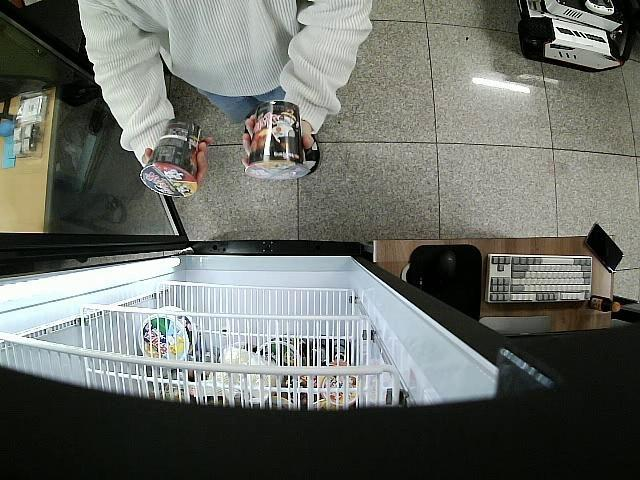08_buldak_S: (141, 118, 202, 198), (245, 103, 306, 180)
